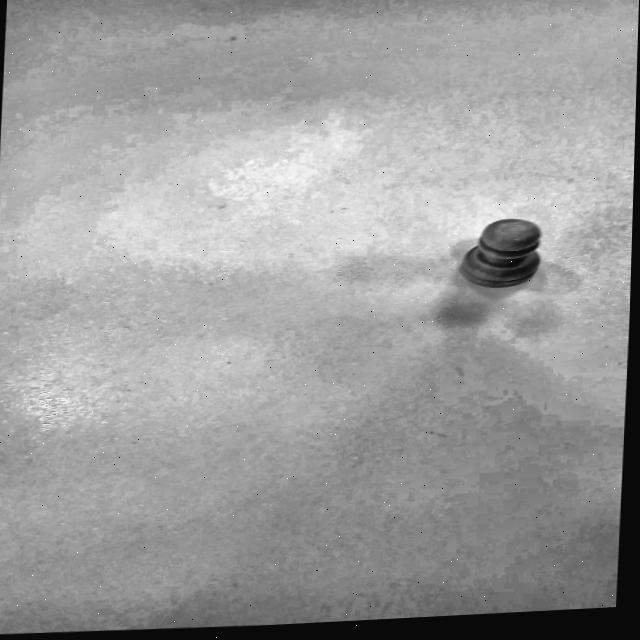white-pawn: (439, 207, 561, 317)
